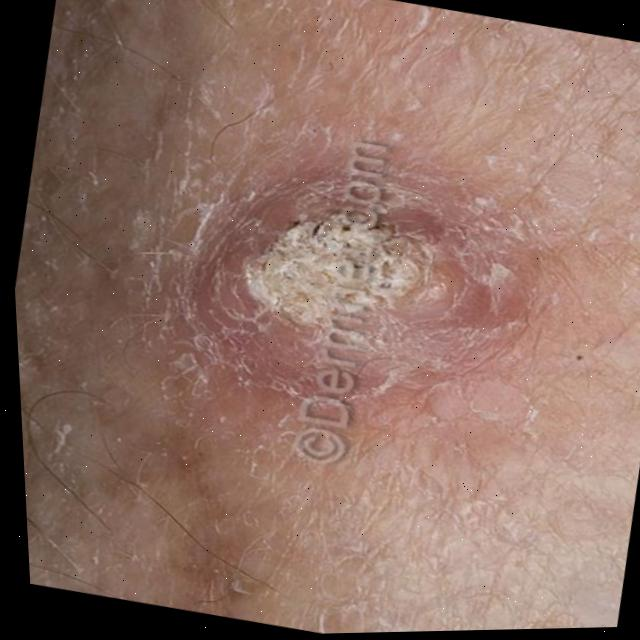Eczema: (167, 144, 522, 409)
